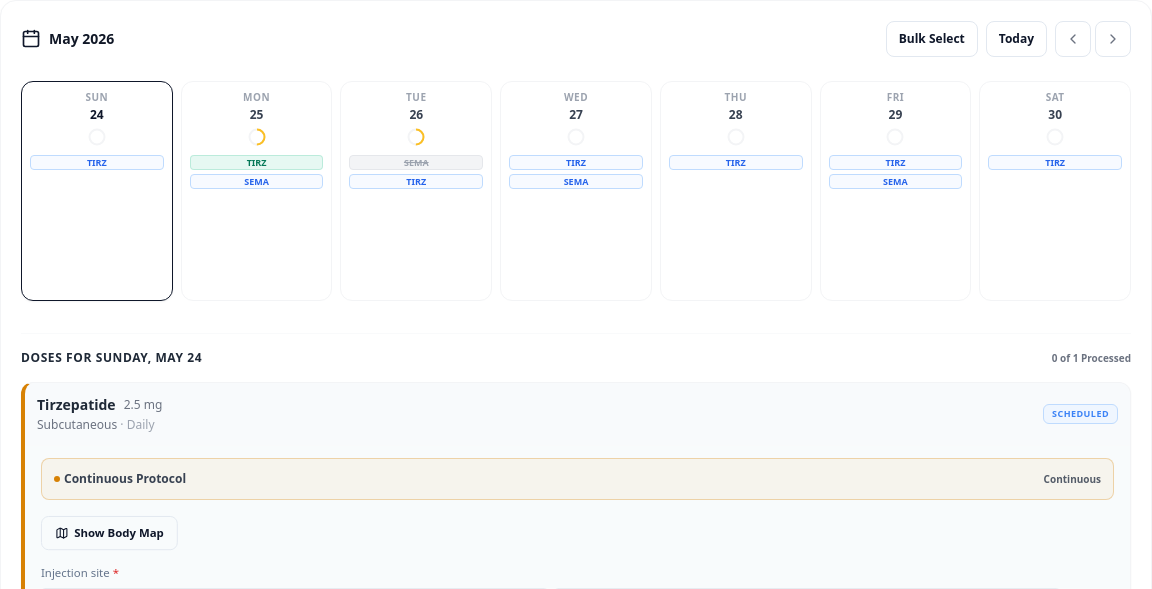
Scenario: TrackerCalendar Component UI/UX with JSDOM › renders scheduled, logged, and skipped doses correctly in the selected day action panel
// Click May 25 cell (which has log-1: Logged Tirzepatide)
Click the button with aria-label "May 25". click: (257, 191)
box: [181,81,332,301]
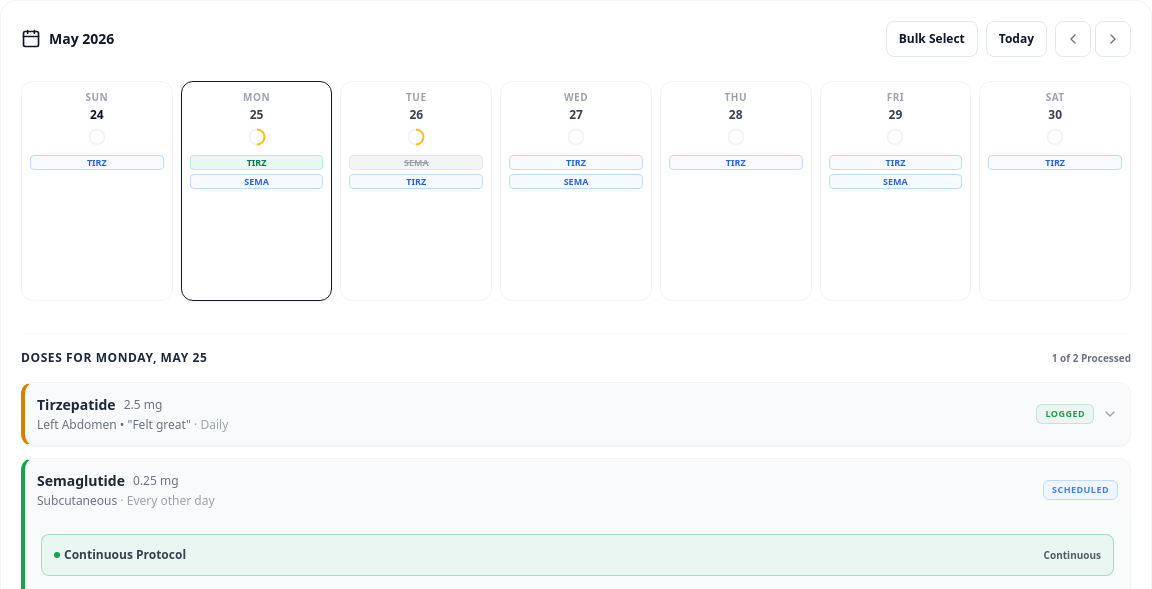
Expected: the text "Tirzepatide" is shown, [37,395,116,415]
Now the text "Left Abdomen • \"Felt great\" · Daily" is shown, box [37,416,228,433]
Now the text "LOGGED" is shown, box [1036,404,1094,424]
// Click May 26 cell (which has log-2: Skipped Semaglutide)
Click the button with aria-label "May 26". click: (416, 191)
box: [340,81,492,301]
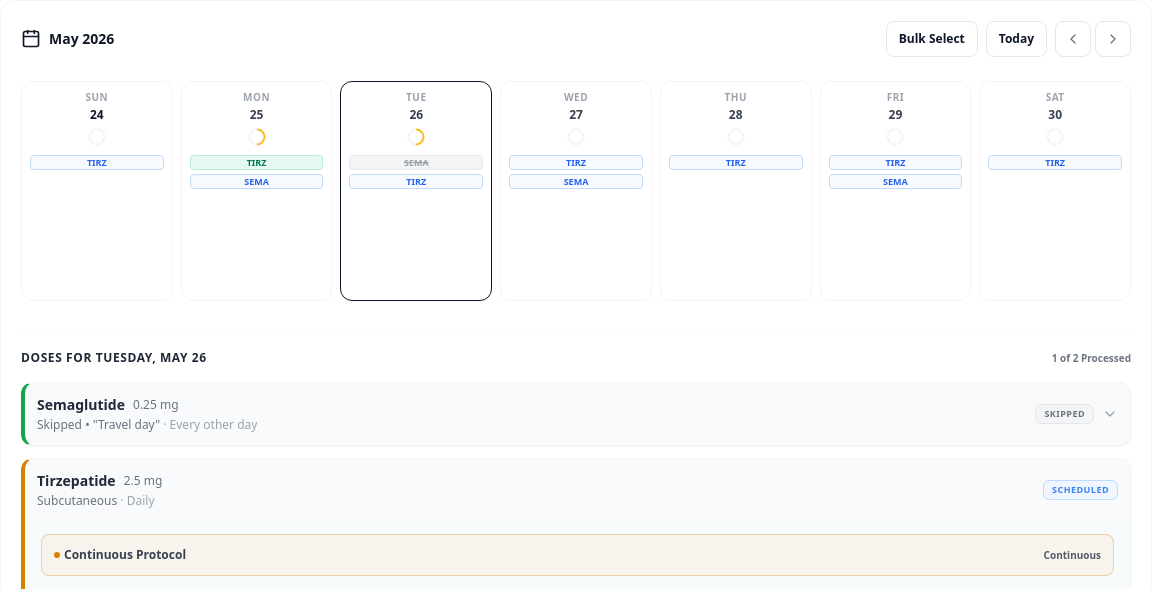
Now the text "Semaglutide" is shown, box [37,395,125,415]
Now the text "Skipped • \"Travel day\" · Every other day" is shown, box [37,416,257,433]
Now the text "SKIPPED" is shown, box [1035,404,1094,424]
